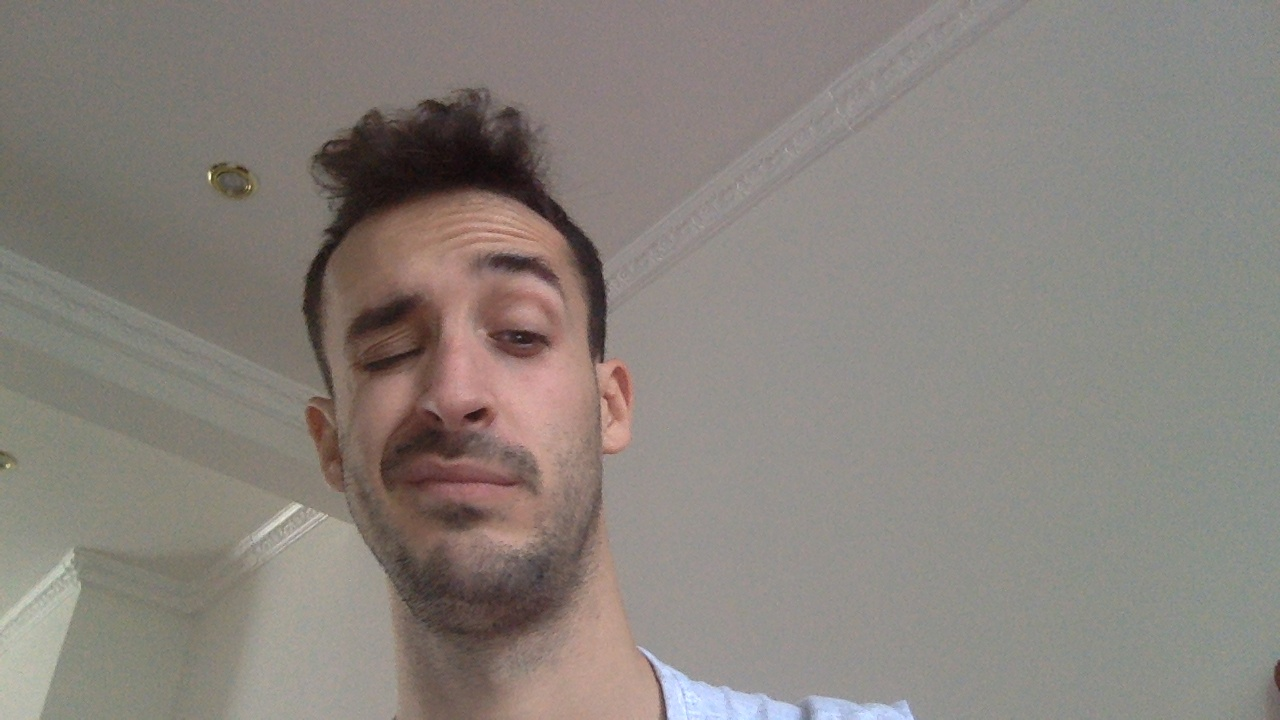wink: (344, 332, 431, 379)
